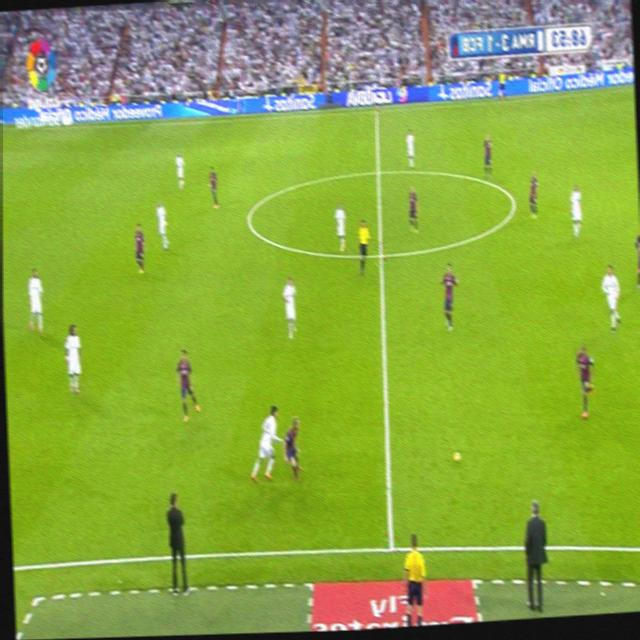halfcircle_bottom: (373, 242, 387, 267)
halfcircle_top: (371, 160, 383, 181)
midline_bottom_intersection: (381, 529, 399, 558)
midline_top_intersection: (370, 103, 379, 118)
